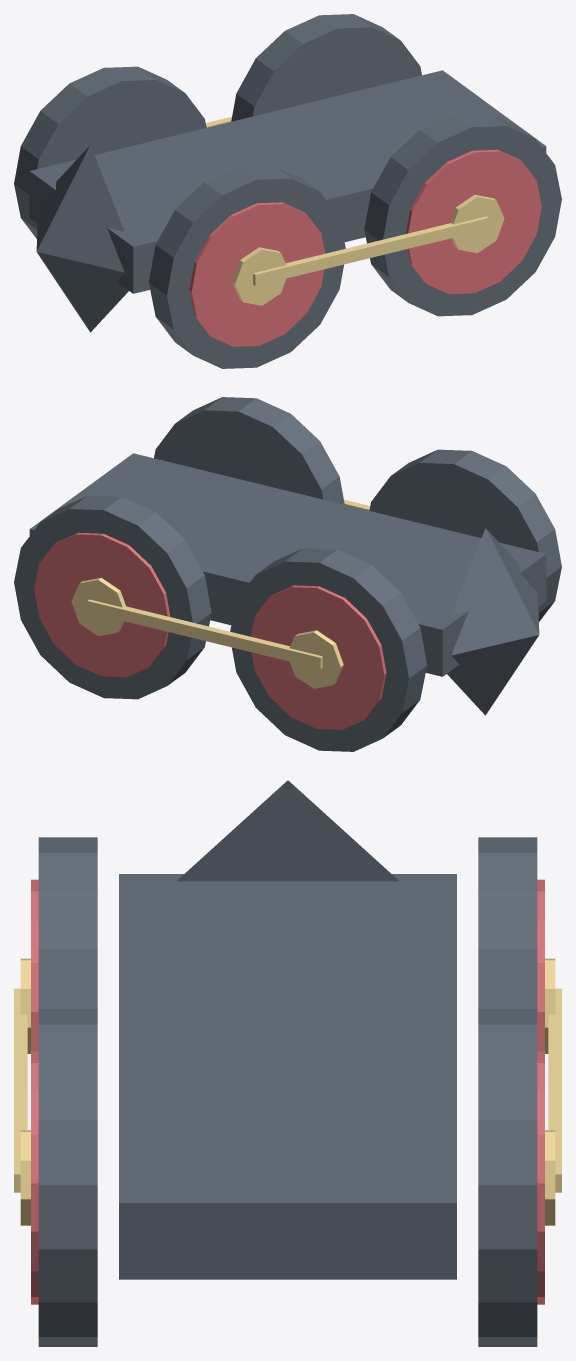
The model's file is toy_train_big_wheels.glb.
3 views of the same model, one above another, from view 1: azimuth 30°, elevation 25°; view 2: azimuth 150°, elevation 25°; view 3: azimuth 270°, elevation 25° (orthographic). The views are drawn at different scales.
Parts seen in each view (by area): view 1: Chassis, Rim.-0.12.-1, Hub.-0.12.-1; view 2: Chassis, Rim.-0.12.-1, Hub.-0.12.-1; view 3: Chassis, Hub.-0.12.-1, Rim.-0.12.-1.
Part boxes in pixels (bbox=[...]): Chassis: bbox=[14, 14, 561, 368]; Rim.-0.12.-1: bbox=[189, 149, 541, 346]; Hub.-0.12.-1: bbox=[205, 116, 504, 305]; Chassis: bbox=[14, 397, 561, 751]; Rim.-0.12.-1: bbox=[34, 532, 386, 729]; Hub.-0.12.-1: bbox=[71, 499, 370, 688]; Chassis: bbox=[38, 780, 537, 1346]; Hub.-0.12.-1: bbox=[14, 958, 561, 1225]; Rim.-0.12.-1: bbox=[31, 879, 544, 1304].
Bounding box in the file's own units: 0.51 × 0.201 × 0.324.
